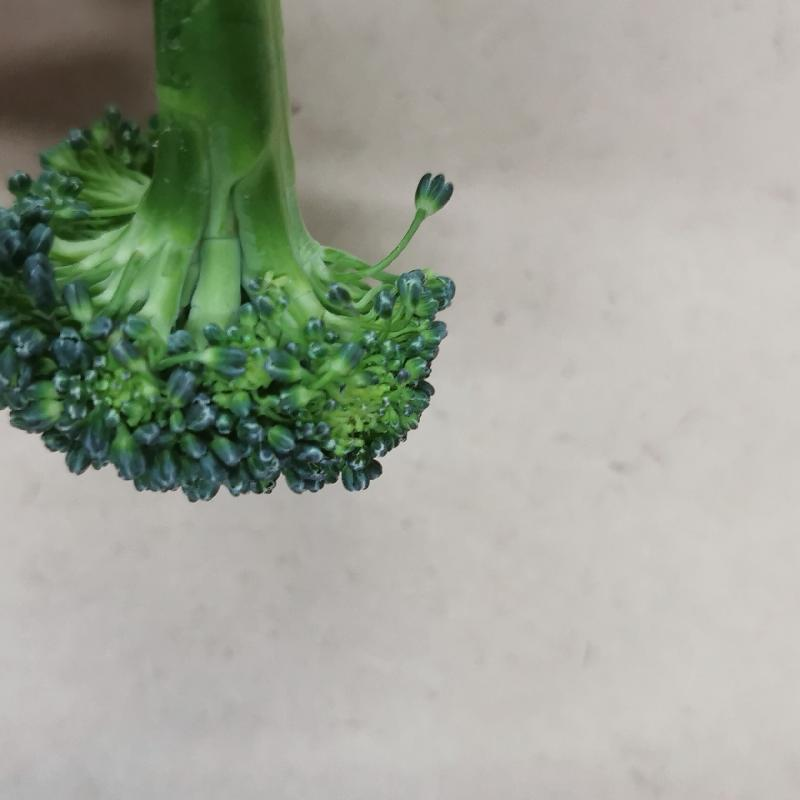broccoli: (3, 3, 463, 503)
